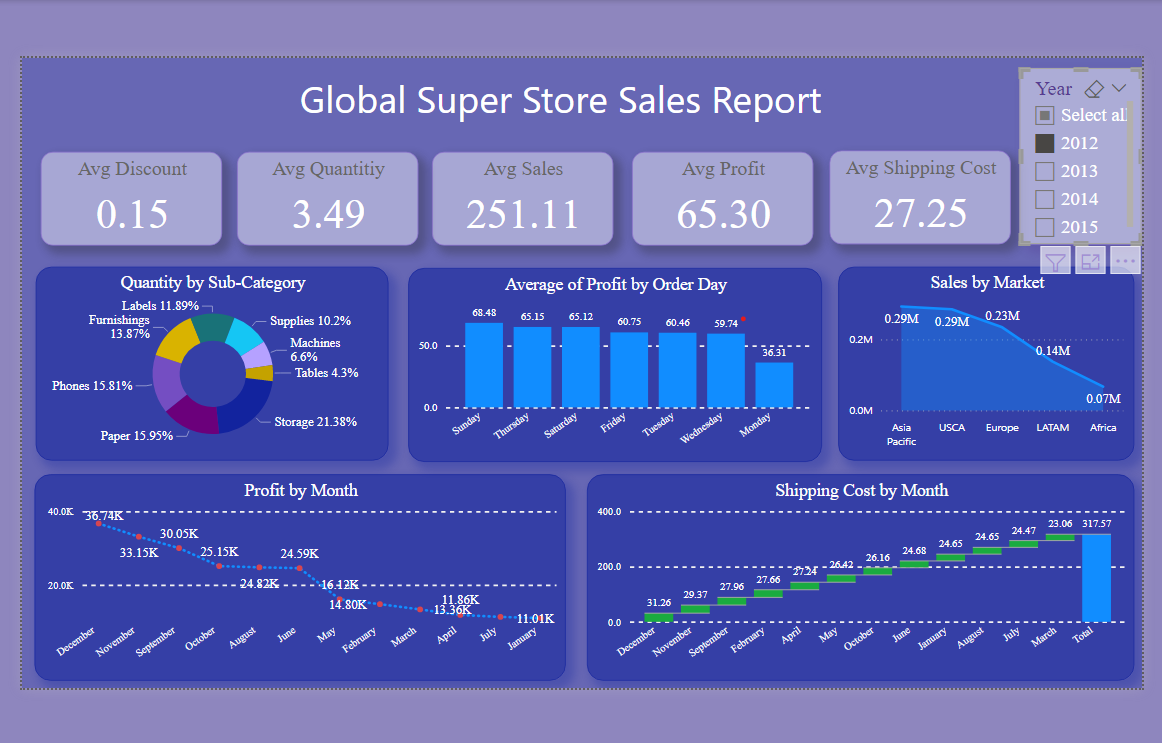

What the dashboard file says about the page in this screenshot:
{"tool":"powerbi","page":{"name":"Page 1","canvas":[1280,720],"ordinal":0},"visuals":[{"type":"card","title":"Avg Discount","fields":{"Values":["Avg(Orders.Discount)"]},"box":[21.7,106.6,207.4,107.1],"z":0},{"type":"card","title":"Avg Profit","fields":{"Values":["Avg(Orders.Profit)"]},"box":[696.6,107.1,207.1,107.1],"z":1000},{"type":"card","title":"Avg Sales","fields":{"Values":["Avg(Orders.Sales)"]},"box":[468,107.1,207.1,107.1],"z":2000},{"type":"card","title":"Avg Quantitiy","fields":{"Values":["Avg(Orders.Quantity)"]},"box":[245.1,107.1,207.1,107.1],"z":3000},{"type":"donutChart","fields":{"Category":["Orders.Category","Orders.Sub-Category"],"Y":["Sum(Orders.Quantity)"]},"box":[16.3,238.9,402.9,221.4],"z":4000},{"type":"clusteredColumnChart","fields":{"Category":["Orders.Order Day"],"Y":["Avg(Orders.Profit)"]},"box":[441.4,239.4,472.9,221.4],"z":5000},{"type":"slicer","fields":{"Values":["Orders.Order Year"]},"box":[1140,11.4,140,201.4],"z":6000},{"type":"lineChart","title":"Profit by Month ","fields":{"Y":["Sum(Orders.Profit)"],"Category":["Orders.Order Month Name"]},"box":[14.3,476,607.1,235.7],"z":7000},{"type":"areaChart","fields":{"Category":["Orders.Market"],"Y":["Sum(Orders.Sales)"]},"box":[933.4,238.9,338.6,221.4],"z":8000},{"type":"card","title":"Avg Shipping Cost","fields":{"Values":["Avg(Orders.Shipping Cost)"]},"box":[922.3,105.7,207.1,107.1],"z":8001},{"type":"waterfallChart","title":"Shipping Cost by Month ","fields":{"Category":["Orders.Order Month Name"],"Y":["Avg(Orders.Shipping Cost)"]},"box":[645.7,475.7,625.7,235.7],"z":8002},{"type":"textbox","box":[158.6,11.4,925.7,80],"z":8003}]}

Visuals, with their boxes on the page's 1280x720 design canvas (x1, y1, x2, y2). These are canvas units, not pixel positions in the 1162x743 screenshot, which may show the page scaled, cropped or inside an application window:
"Avg Discount" card: l=22, t=107, r=229, b=214
"Avg Profit" card: l=697, t=107, r=904, b=214
"Avg Sales" card: l=468, t=107, r=675, b=214
"Avg Quantitiy" card: l=245, t=107, r=452, b=214
donutChart - Orders.Category x Orders.Sub-Category: l=16, t=239, r=419, b=460
clusteredColumnChart - Orders.Order Day x Avg(Orders.Profit): l=441, t=239, r=914, b=461
slicer - Orders.Order Year: l=1140, t=11, r=1280, b=213
"Profit by Month " lineChart: l=14, t=476, r=621, b=712
areaChart - Orders.Market x Sum(Orders.Sales): l=933, t=239, r=1272, b=460
"Avg Shipping Cost" card: l=922, t=106, r=1129, b=213
"Shipping Cost by Month " waterfallChart: l=646, t=476, r=1271, b=711
textbox: l=159, t=11, r=1084, b=91
